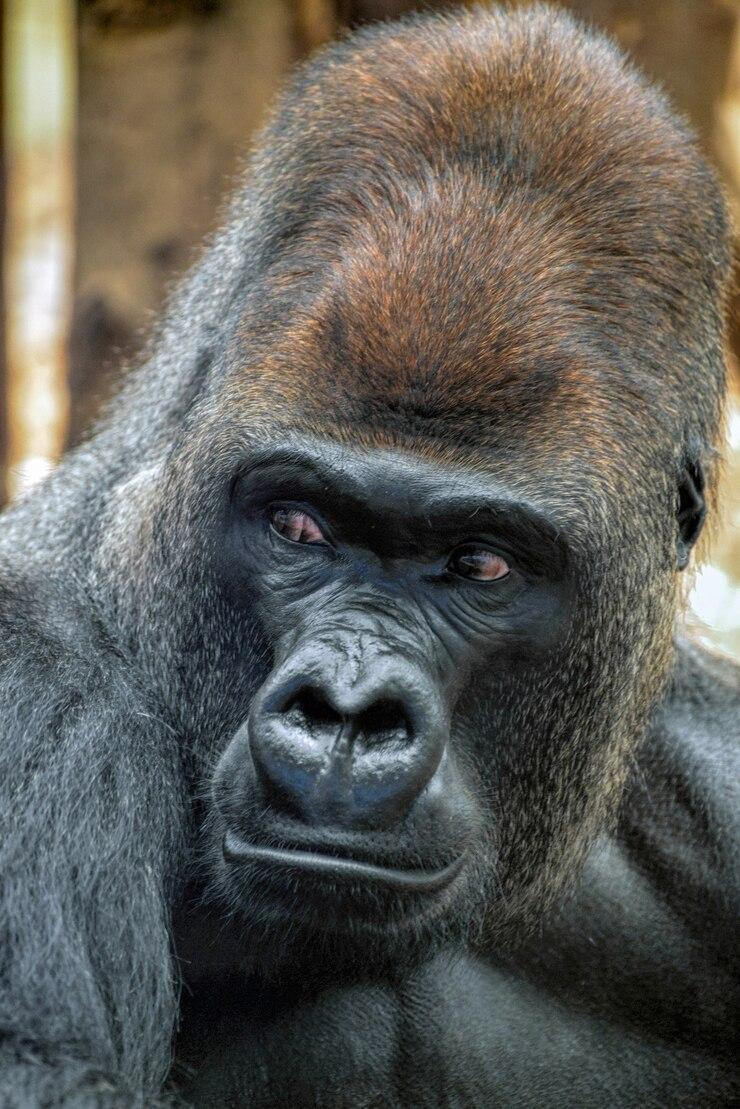gorille_Autres: (7, 0, 740, 1109)
